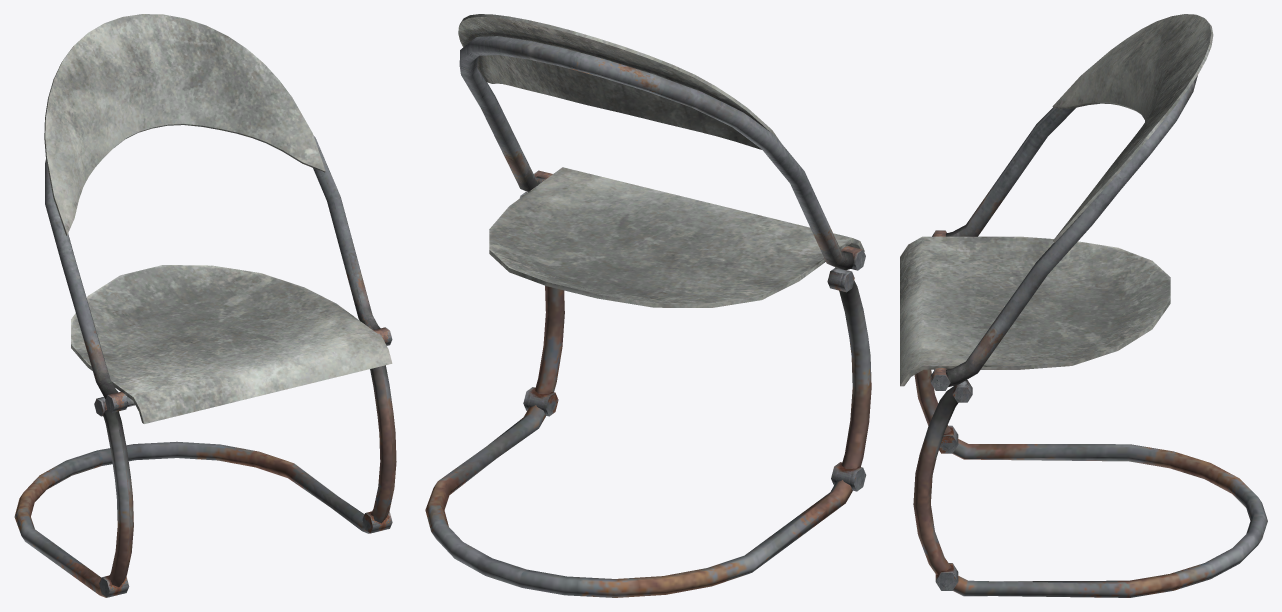
Rendered from chair_lightweight_theta.DAE.
3 views of the same model, side by side, from view 1: azimuth 30°, elevation 25°; view 2: azimuth 150°, elevation 25°; view 3: azimuth 270°, elevation 25° (orthographic). The views are drawn at different scales.
Parts seen in each view (by area): view 1: chair_lightweight_theta; view 2: chair_lightweight_theta; view 3: chair_lightweight_theta.
Part boxes in pixels (box(x1,y1,x2,y2)): chair_lightweight_theta: box(14, 14, 396, 597); chair_lightweight_theta: box(425, 14, 871, 597); chair_lightweight_theta: box(900, 14, 1267, 597).
Bounding box in the file's own units: 0.8293 × 1.3 × 0.8749.
